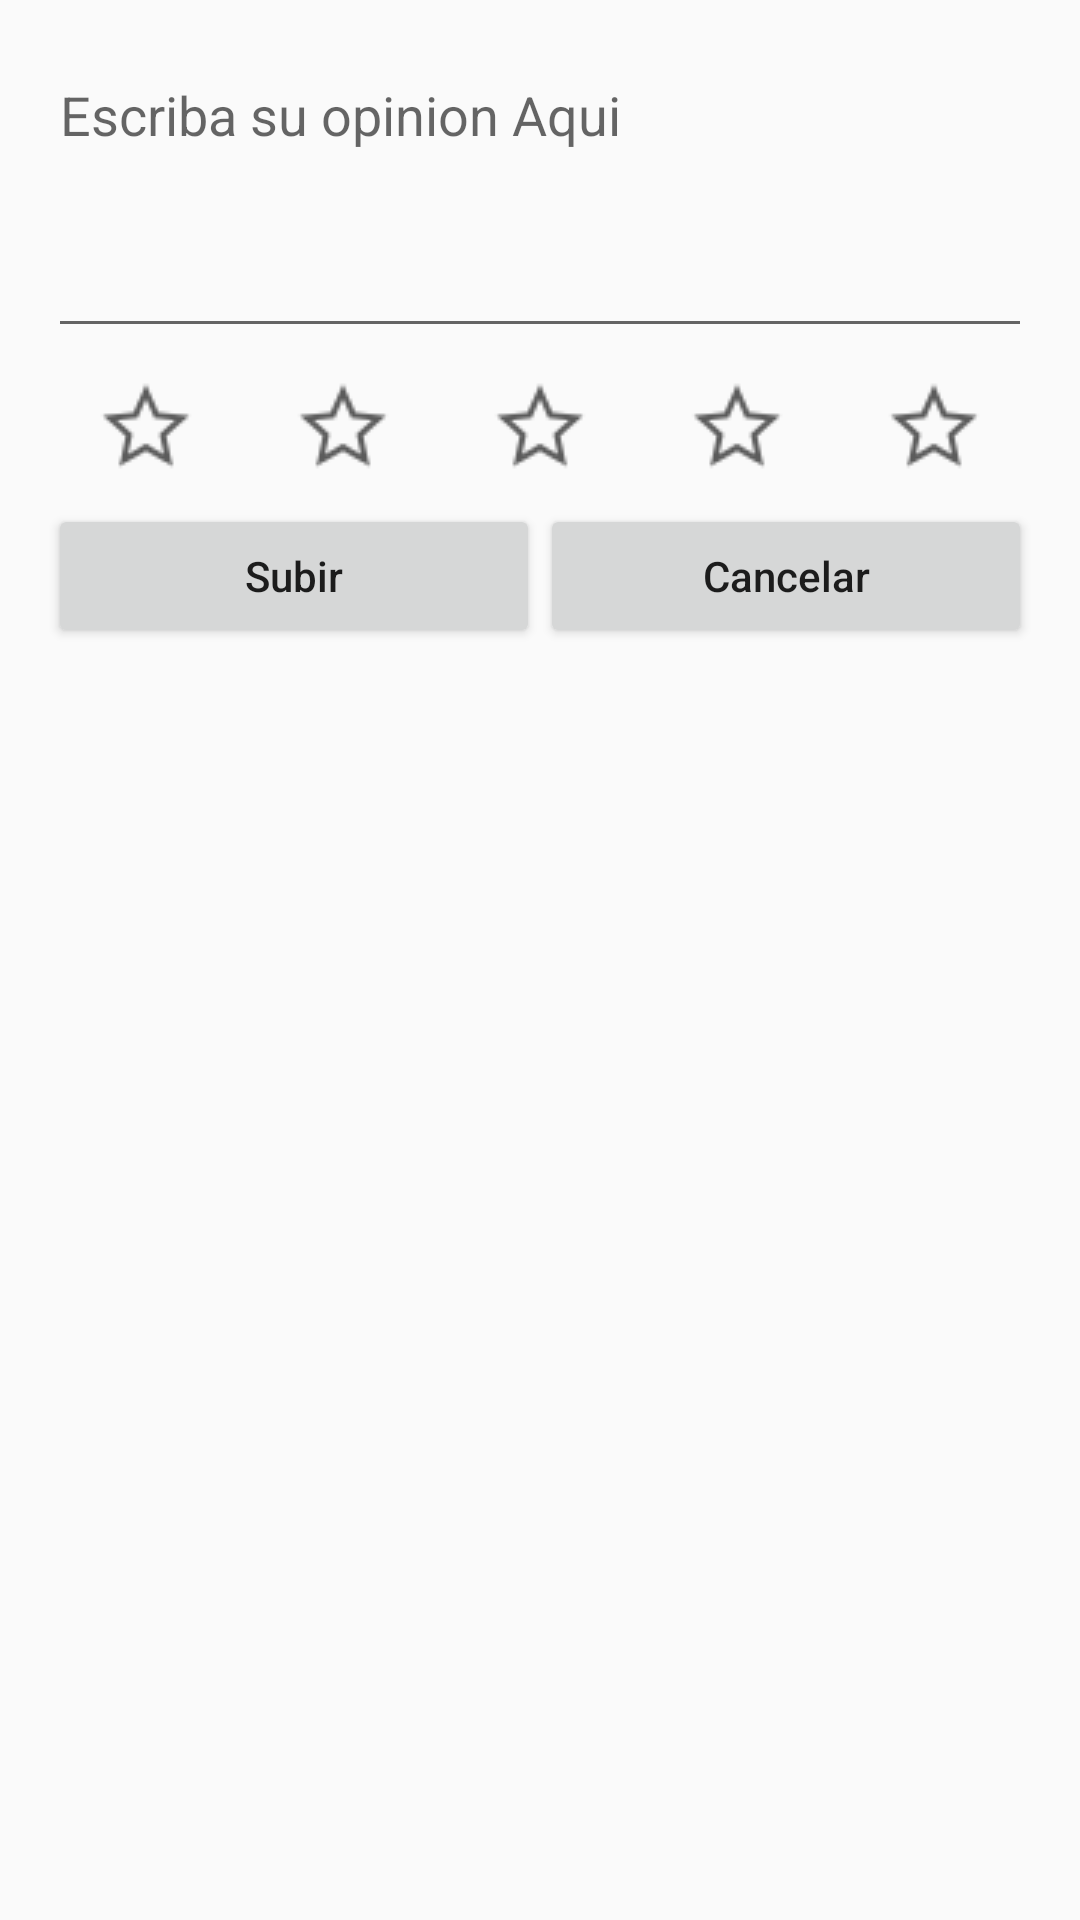

Icon bounding boxes for this 1080px x 1920px phone screenshot, format (x1, y1, x2, y2):
emptystar: (103, 385, 189, 466), (300, 385, 386, 466), (497, 385, 583, 466), (694, 385, 780, 466), (891, 385, 977, 466)
